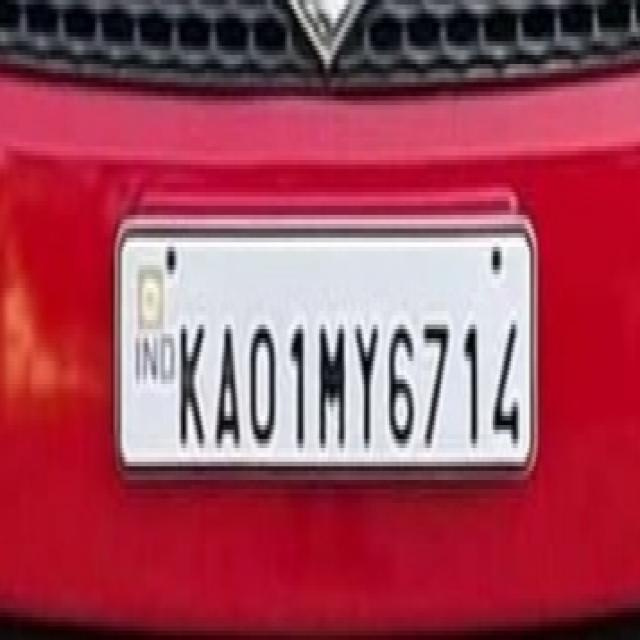0: (247, 310, 281, 456)
1: (458, 300, 486, 452), (286, 314, 310, 460)
4: (488, 299, 526, 468)
6: (386, 306, 418, 452)
7: (416, 306, 454, 454)
A: (214, 306, 243, 462)
K: (176, 310, 210, 466)
M: (316, 310, 350, 454)
Y: (350, 306, 386, 466)
